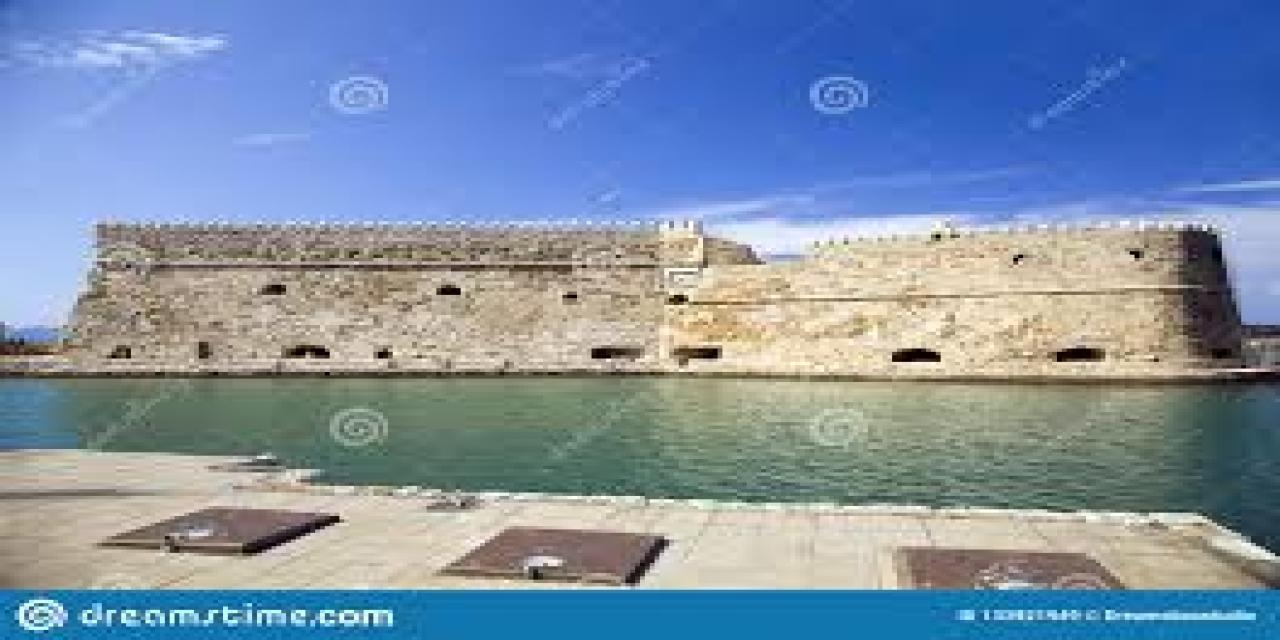Kules: (74, 199, 1279, 379)
